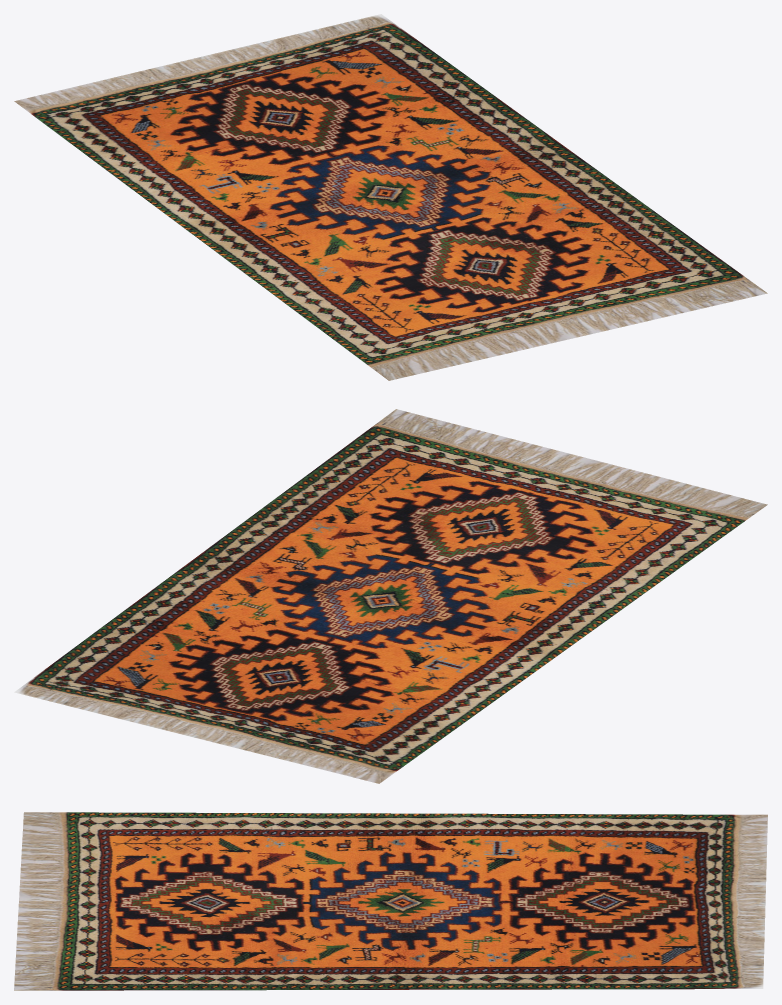
The model's file is carpet-2.glb.
3 renders of one model, top to bottom at view 1: azimuth 30°, elevation 25°; view 2: azimuth 150°, elevation 25°; view 3: azimuth 270°, elevation 25°, orthographic. The views are drawn at different scales.
Parts seen in each view (by area): view 1: Object_2; view 2: Object_2; view 3: Object_2.
Boxes of the visible parts, <box> form: Object_2: <box>14,14,767,380</box>; Object_2: <box>14,409,767,783</box>; Object_2: <box>14,812,767,990</box>.
Size of the model in its own units: 205 by 8.13e-14 by 366.
Materials: 1 (1 with a texture image).
